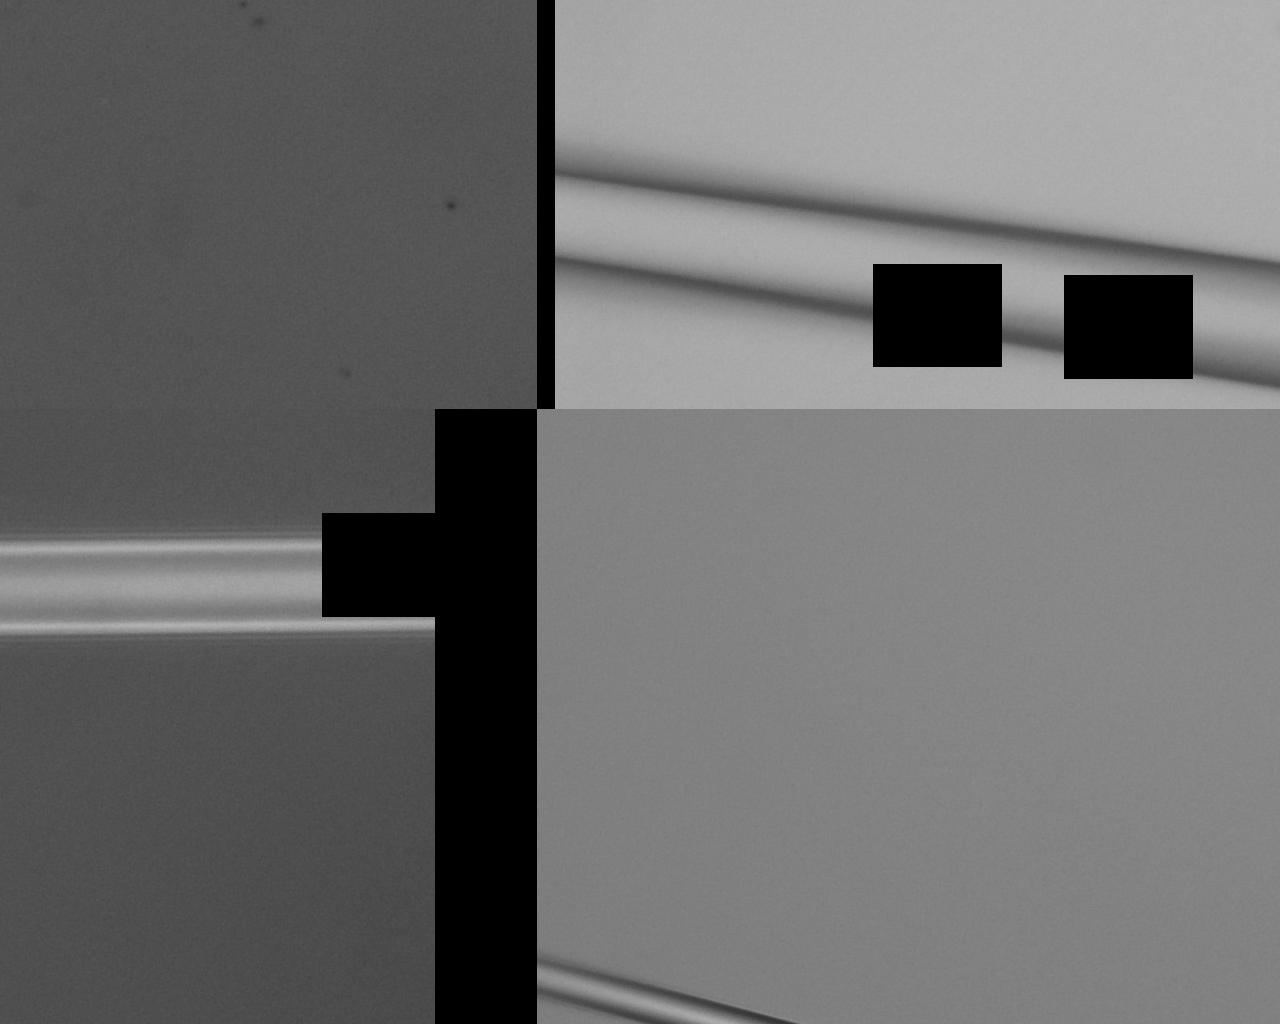fiber: (364, 0, 881, 1024)
